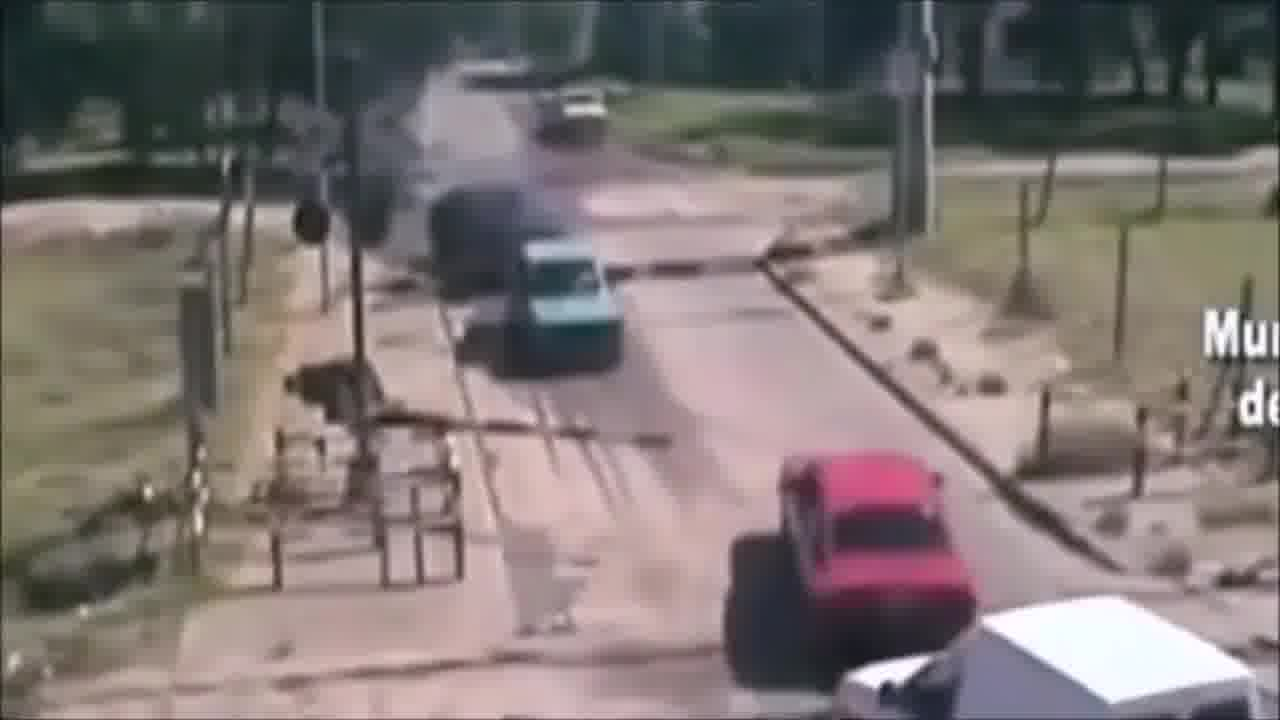crossing railway track: (736, 376, 1022, 720)
